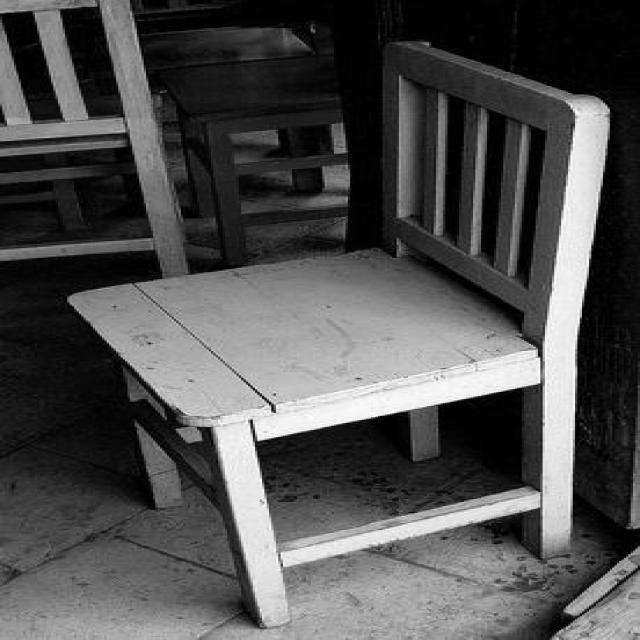chair: (59, 39, 608, 630)
